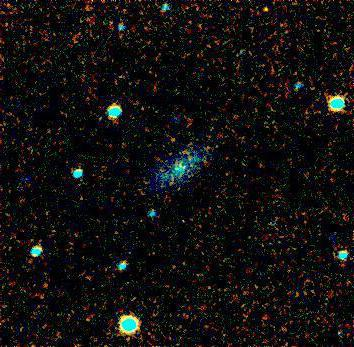star: (250, 0, 280, 24)
